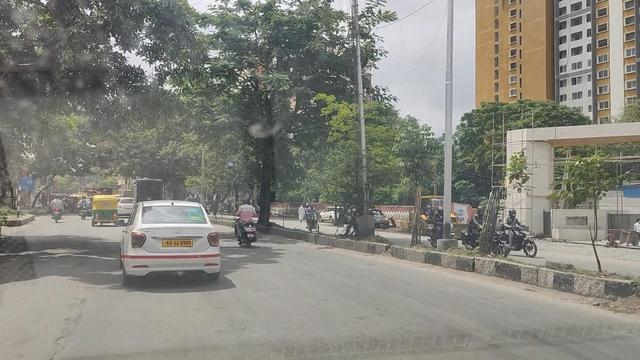LMV: (128, 199, 223, 290), (227, 202, 257, 248)
RoadDamages: (29, 323, 78, 360), (61, 295, 95, 328)
